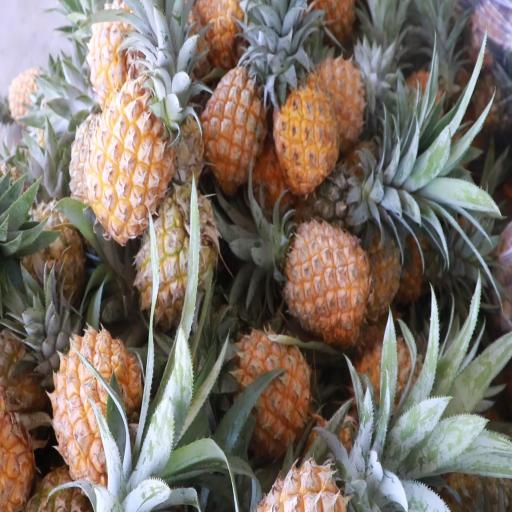------------------------------: (137, 198, 214, 326)
Pineapple - v8 v1: (58, 333, 142, 487), (91, 83, 175, 228), (285, 221, 370, 336), (229, 334, 311, 444), (203, 66, 273, 188), (273, 79, 339, 188), (90, 16, 154, 105)
